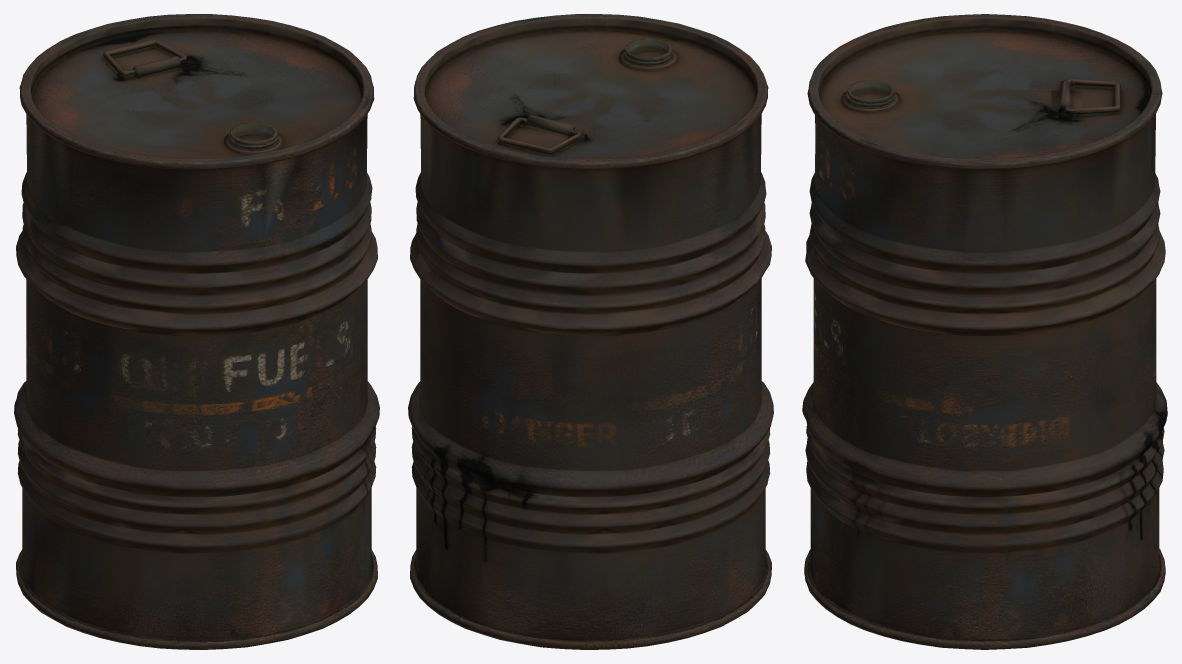
Rendered from barrel_oil_black.glb.
The picture shows the model from 3 angles, left to right: view 1: azimuth 30°, elevation 25°; view 2: azimuth 150°, elevation 25°; view 3: azimuth 270°, elevation 25°; orthographic projection.
Visible parts, largest first — view 1: tripo_node_93685cd6-8bb0-436e-9a04-ab8c3791c2c8; view 2: tripo_node_93685cd6-8bb0-436e-9a04-ab8c3791c2c8; view 3: tripo_node_93685cd6-8bb0-436e-9a04-ab8c3791c2c8.
Part boxes in pixels (bbox=[...]): tripo_node_93685cd6-8bb0-436e-9a04-ab8c3791c2c8: bbox=[14, 14, 379, 649]; tripo_node_93685cd6-8bb0-436e-9a04-ab8c3791c2c8: bbox=[408, 14, 773, 649]; tripo_node_93685cd6-8bb0-436e-9a04-ab8c3791c2c8: bbox=[802, 14, 1167, 649].
Bounding box in the file's own units: 0.6816 × 0.998 × 0.6816.
Materials: 1 (1 with a texture image).
